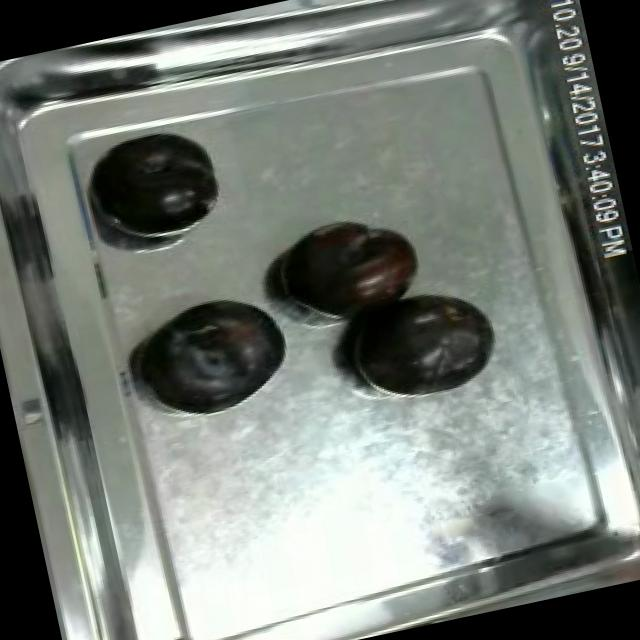Fruit: (125, 280, 302, 426), (332, 273, 506, 415), (264, 207, 433, 336), (82, 119, 230, 248)
